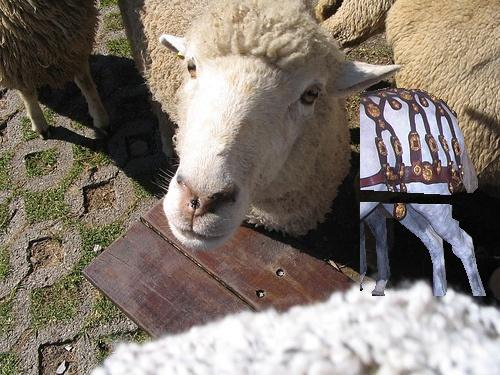tampered: (361, 88, 486, 296)
